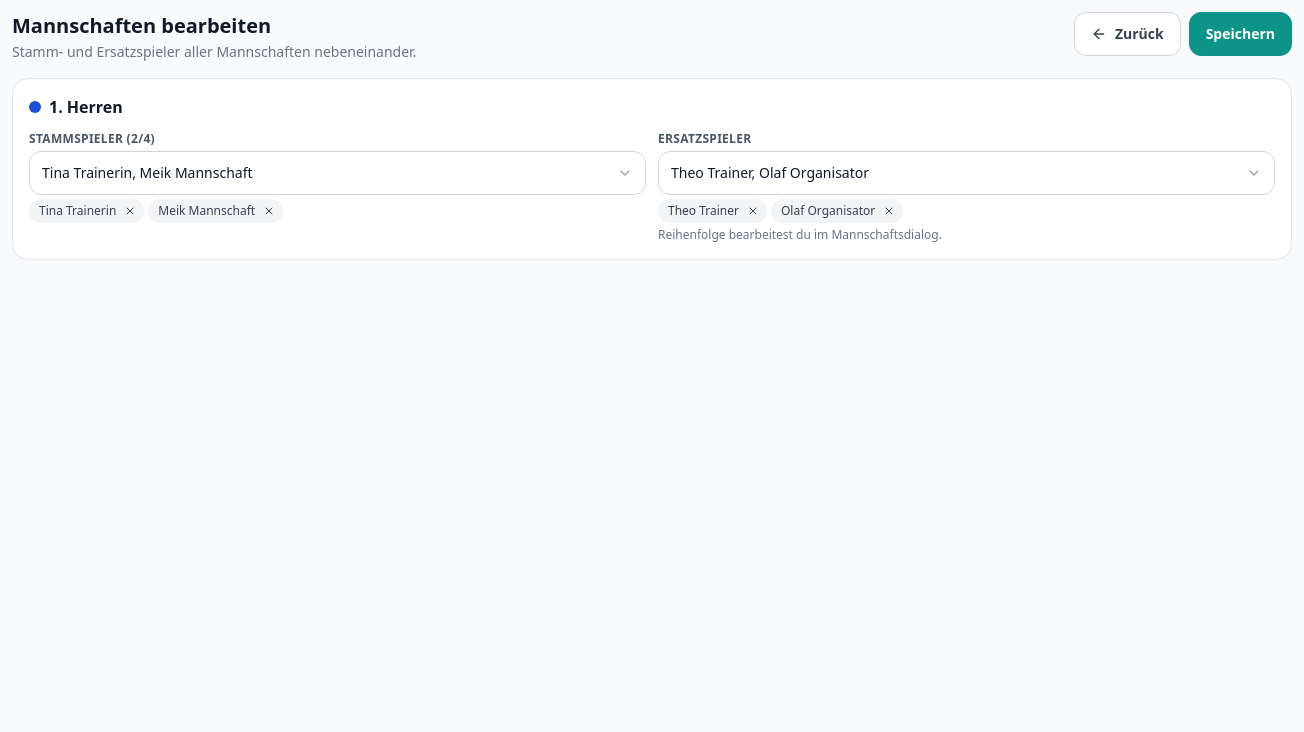
PlayersManagementPage › speichert nur, was sich geändert hat
The image size is (1304, 732).
Expected: the heading "1. Herren" is shown, [49,95,123,119]
Click the button "Speichern": (1240, 34) [1189,12,1292,56]
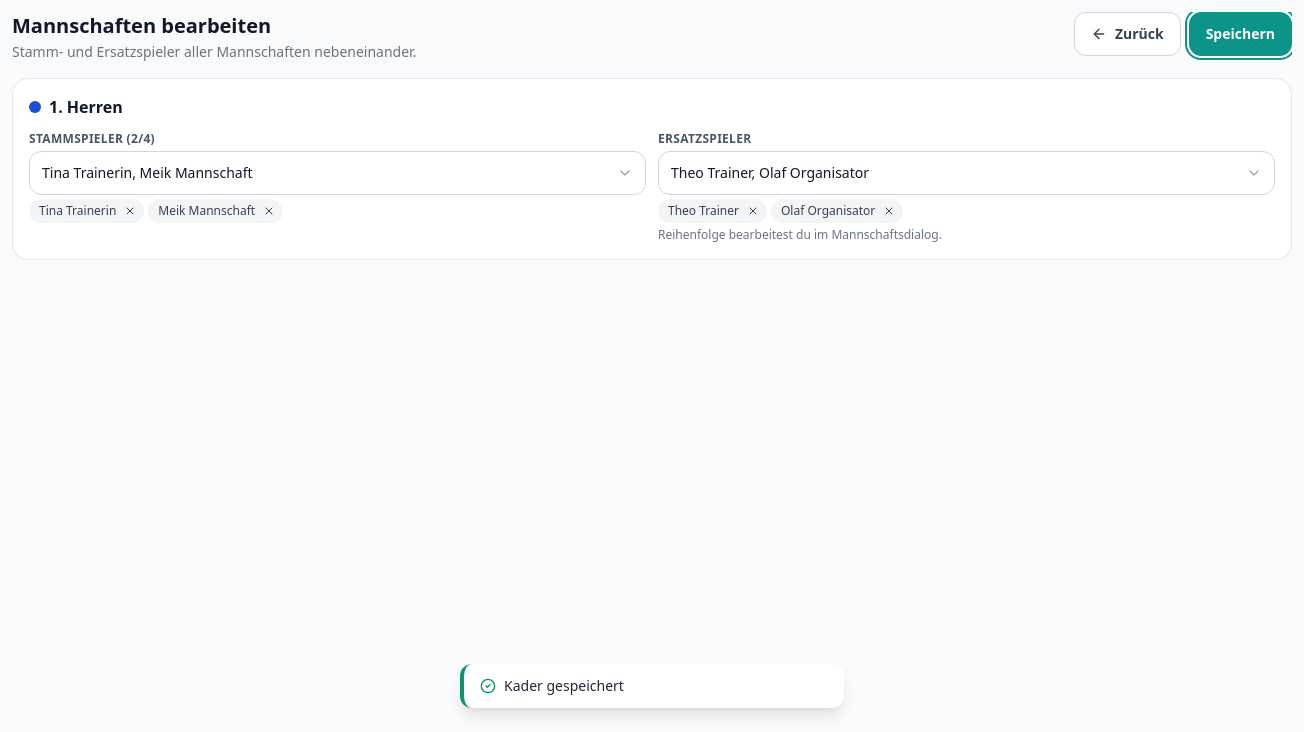
Expected: the text "Kader gespeichert" is shown, [504,676,624,696]
